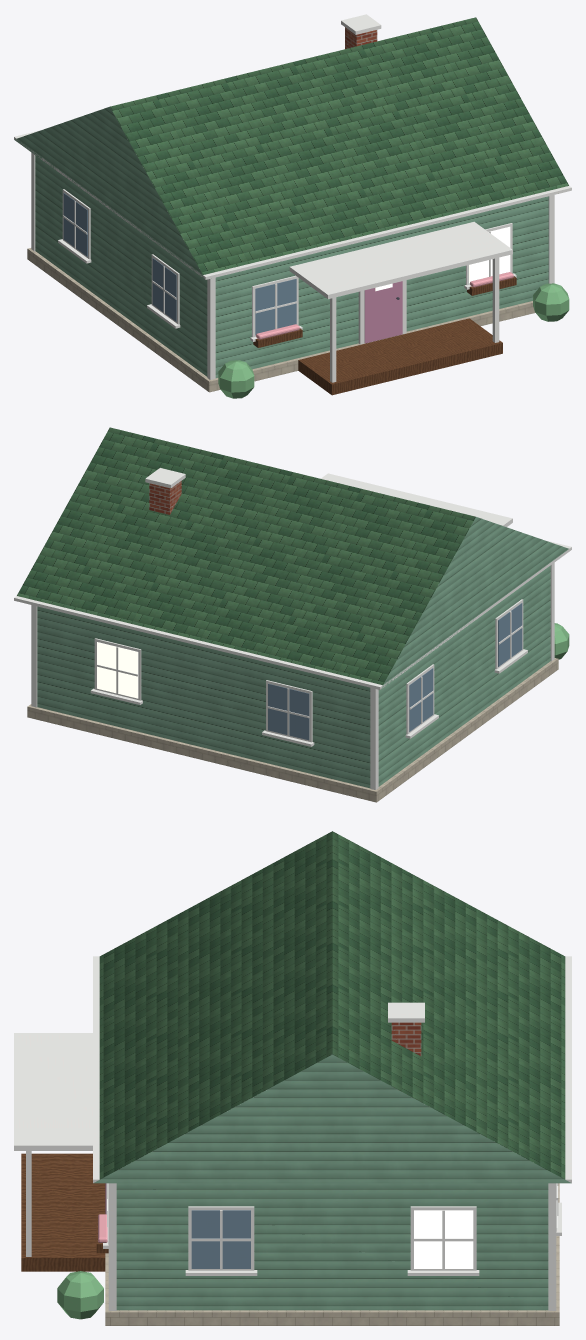
Rendered from exterior.glb.
3 views of the same model, one above another, from view 1: azimuth 30°, elevation 25°; view 2: azimuth 150°, elevation 25°; view 3: azimuth 270°, elevation 25° (orthographic). The views are drawn at different scales.
Visible parts, largest first — view 1: House_house_04; view 2: House_house_04; view 3: House_house_04.
Boxes of the visible parts, x1,y1,x2,y2 form: House_house_04: (14,14,571,398); House_house_04: (14,427,571,802); House_house_04: (14,831,571,1325).
Size of the model in its own units: 10.7 by 6.23 by 11.3.
Materials: 8 (8 with a texture image).
